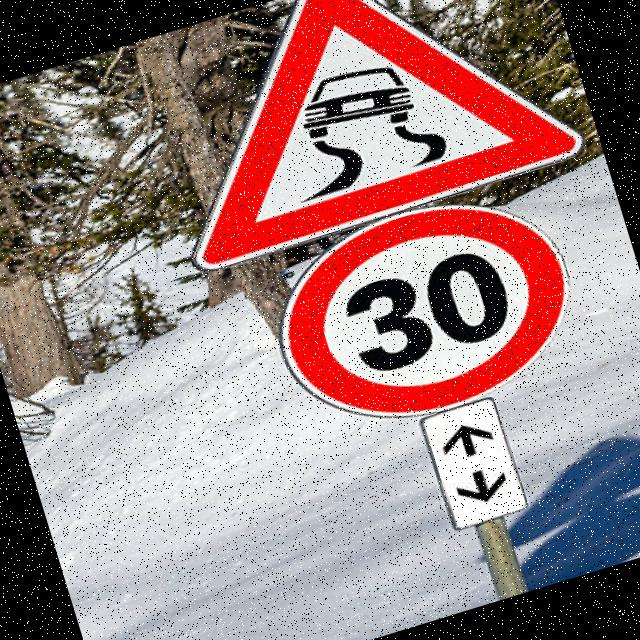round_about: (118, 0, 589, 284)
speed_limit_30: (249, 166, 614, 454)
